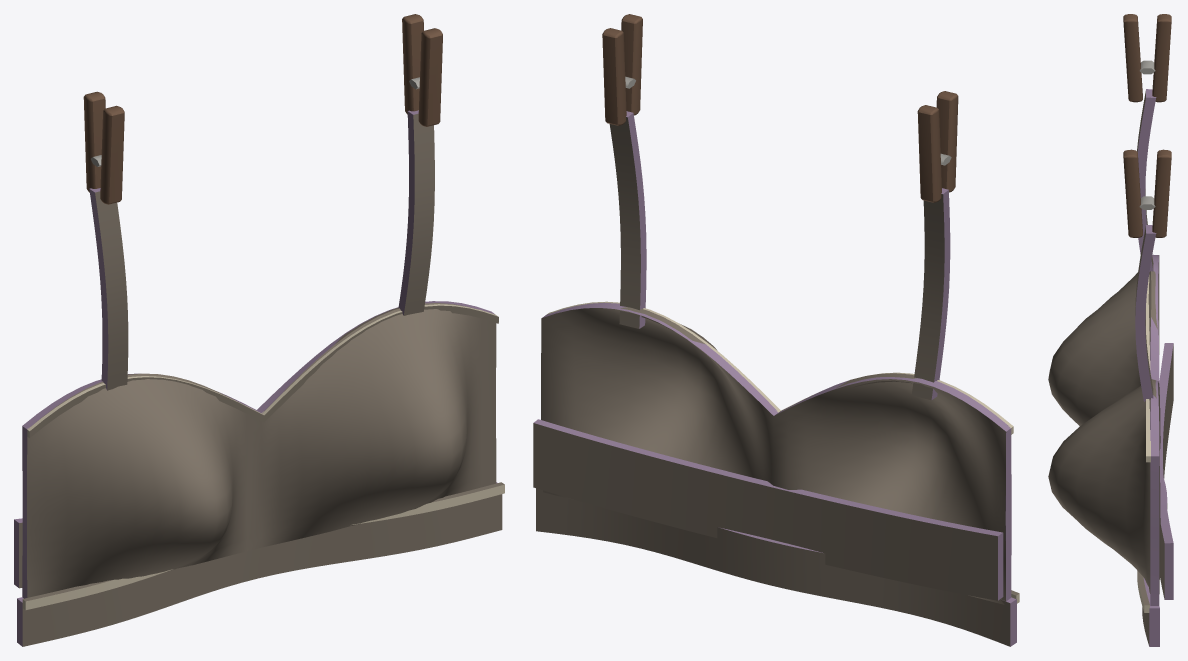
The model's file is bra-line-mint-485adcfd6f1f.glb.
3 renders of one model, left to right at view 1: azimuth 30°, elevation 25°; view 2: azimuth 150°, elevation 25°; view 3: azimuth 270°, elevation 25°, orthographic. The views are drawn at different scales.
Parts seen in each view (by area): view 1: cover-cloth, wood, cloth-lilac, cloth-cream; view 2: cover-cloth, cloth-lilac, wood, cloth-cream; view 3: cover-cloth, cloth-lilac, wood, cloth-cream, brushed.
Boxes of the visible parts, x1,y1,x2,y2 form: cover-cloth: [19, 113, 504, 646]; wood: [83, 14, 442, 204]; cloth-lilac: [14, 110, 497, 646]; cloth-cream: [22, 304, 504, 610]; cover-cloth: [533, 117, 1019, 646]; cloth-lilac: [533, 111, 1016, 646]; wood: [602, 14, 958, 202]; cloth-cream: [547, 301, 1019, 603]; cover-cloth: [1048, 91, 1173, 645]; cloth-lilac: [1135, 89, 1173, 646]; wood: [1123, 14, 1171, 237]; cloth-cream: [1137, 275, 1150, 612]; brushed: [1139, 60, 1155, 209].
Size of the model in its own units: 0.286 by 0.3 by 0.074.
